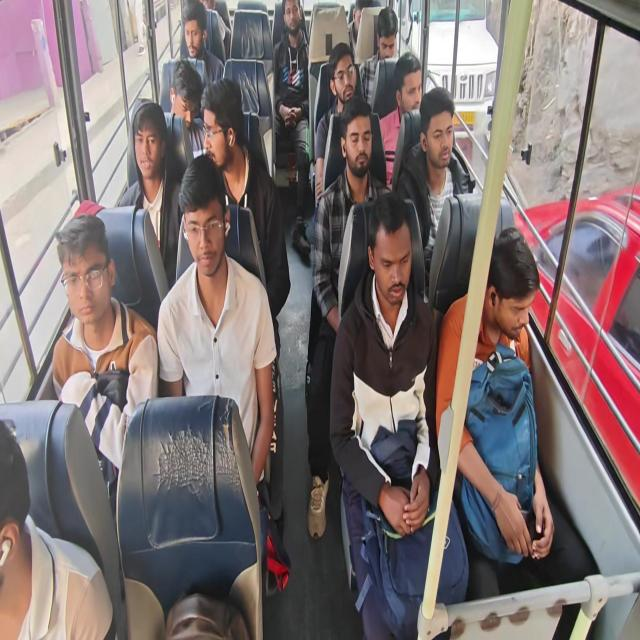person: (0, 434, 53, 577), (53, 228, 110, 327), (182, 192, 231, 282), (370, 204, 409, 307), (497, 247, 534, 341), (198, 98, 240, 168), (132, 116, 164, 190), (424, 104, 456, 173), (337, 115, 371, 175), (328, 48, 358, 102), (166, 72, 196, 121), (396, 59, 419, 118), (377, 11, 400, 64), (182, 12, 207, 58), (351, 2, 368, 32), (285, 3, 301, 32)
